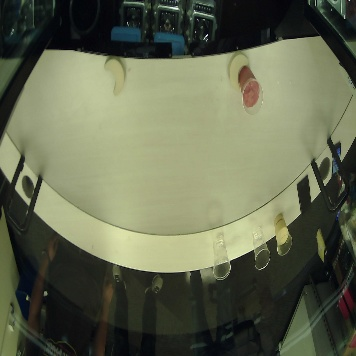empty_cup: (250, 226, 271, 271), (211, 235, 232, 280)
full_cup: (238, 66, 265, 115), (273, 211, 293, 255)
puck: (101, 57, 126, 96), (227, 53, 252, 92)
